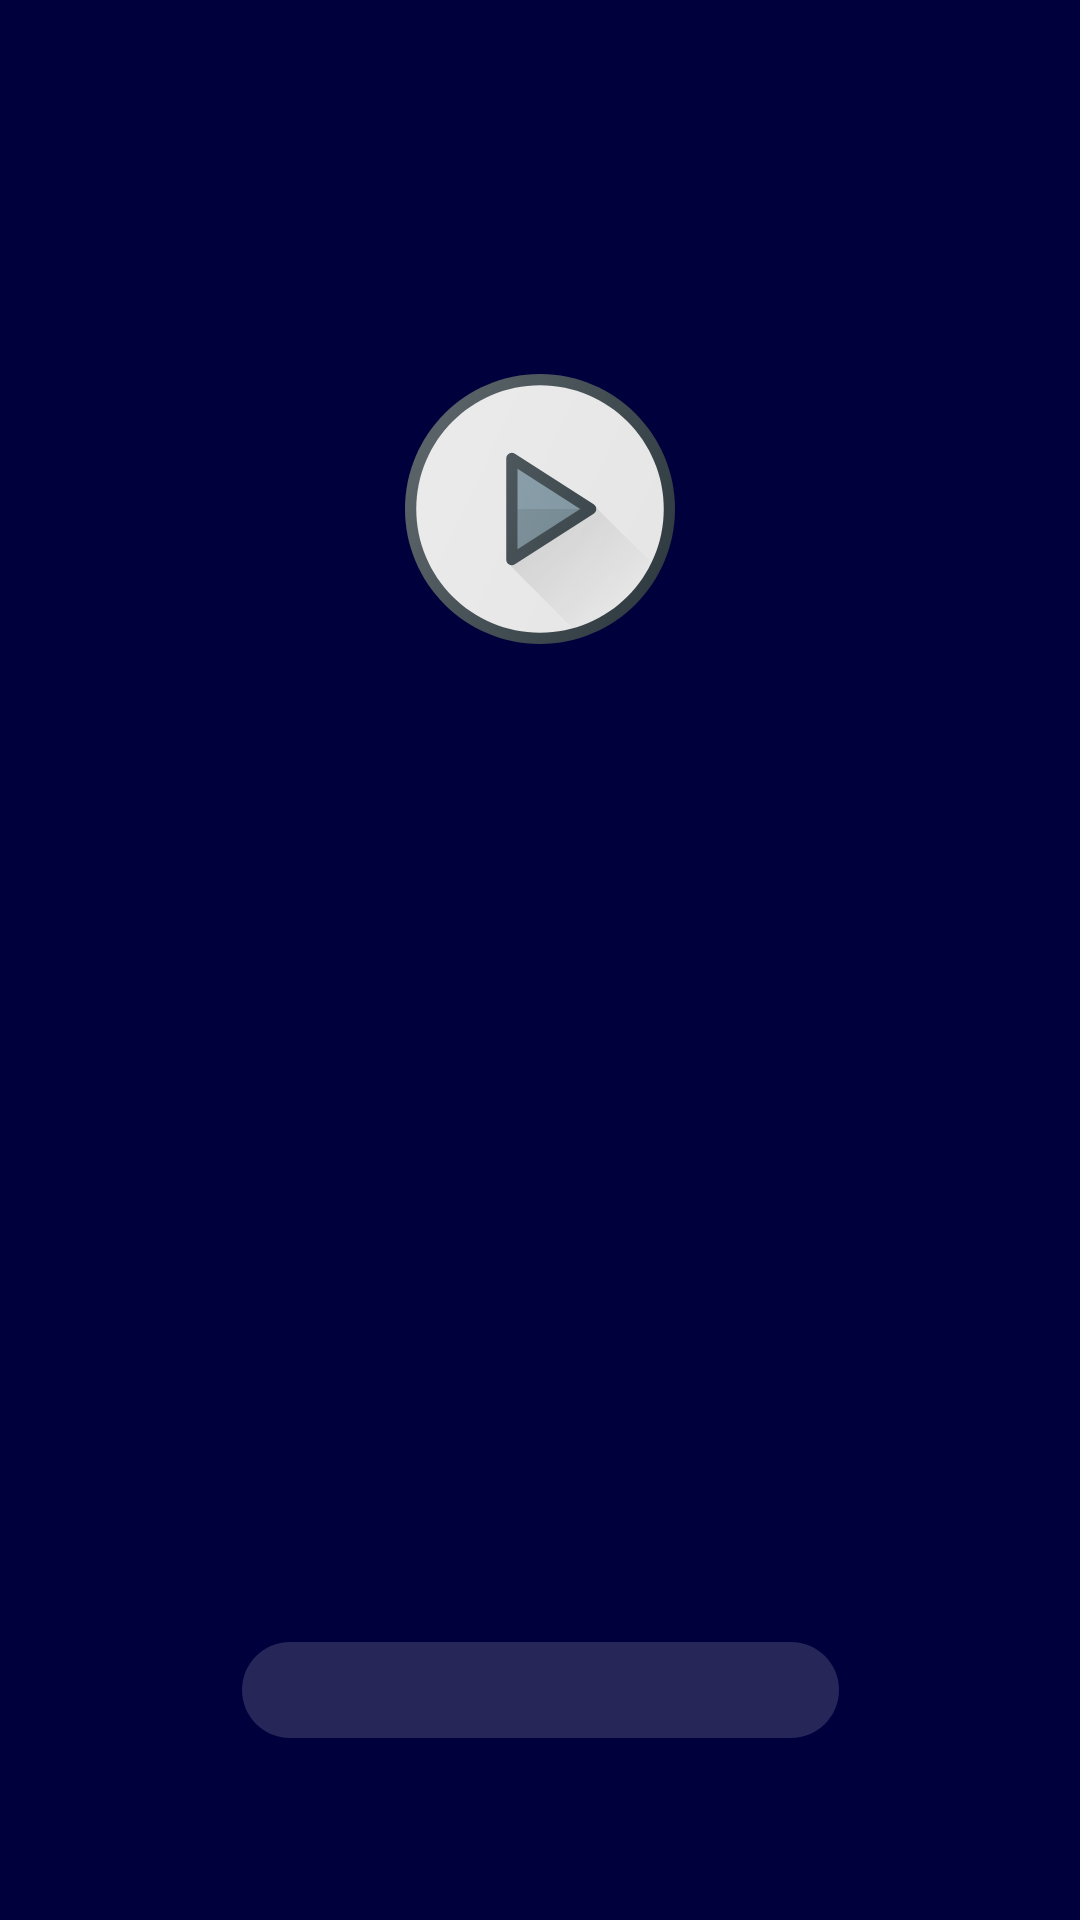

Icon bounding boxes for this 1080x1920 phone screenshot, format box=[x1, y1, x2, y2]:
play: box=[405, 374, 675, 644]
